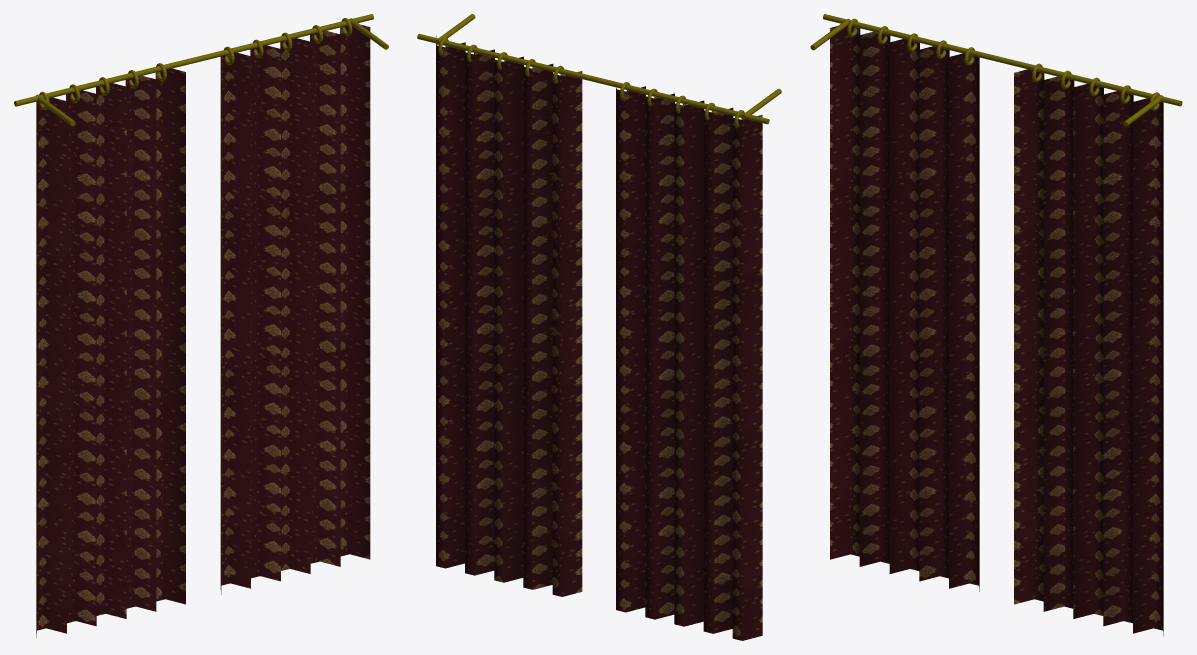
The model's file is curtine_closed.fbx.
3 renders of one model, left to right at view 1: azimuth 30°, elevation 25°; view 2: azimuth 150°, elevation 25°; view 3: azimuth 330°, elevation 25°, orthographic. The views are drawn at different scales.
Parts seen in each view (by area): view 1: Cylinder.003; view 2: Cylinder.003; view 3: Cylinder.003.
Part boxes in pixels (bbox=[...]): Cylinder.003: bbox=[14, 14, 388, 637]; Cylinder.003: bbox=[417, 14, 781, 640]; Cylinder.003: bbox=[810, 14, 1182, 635].
Size of the model in its own units: 0.3718 by 1.94 by 2.8.
